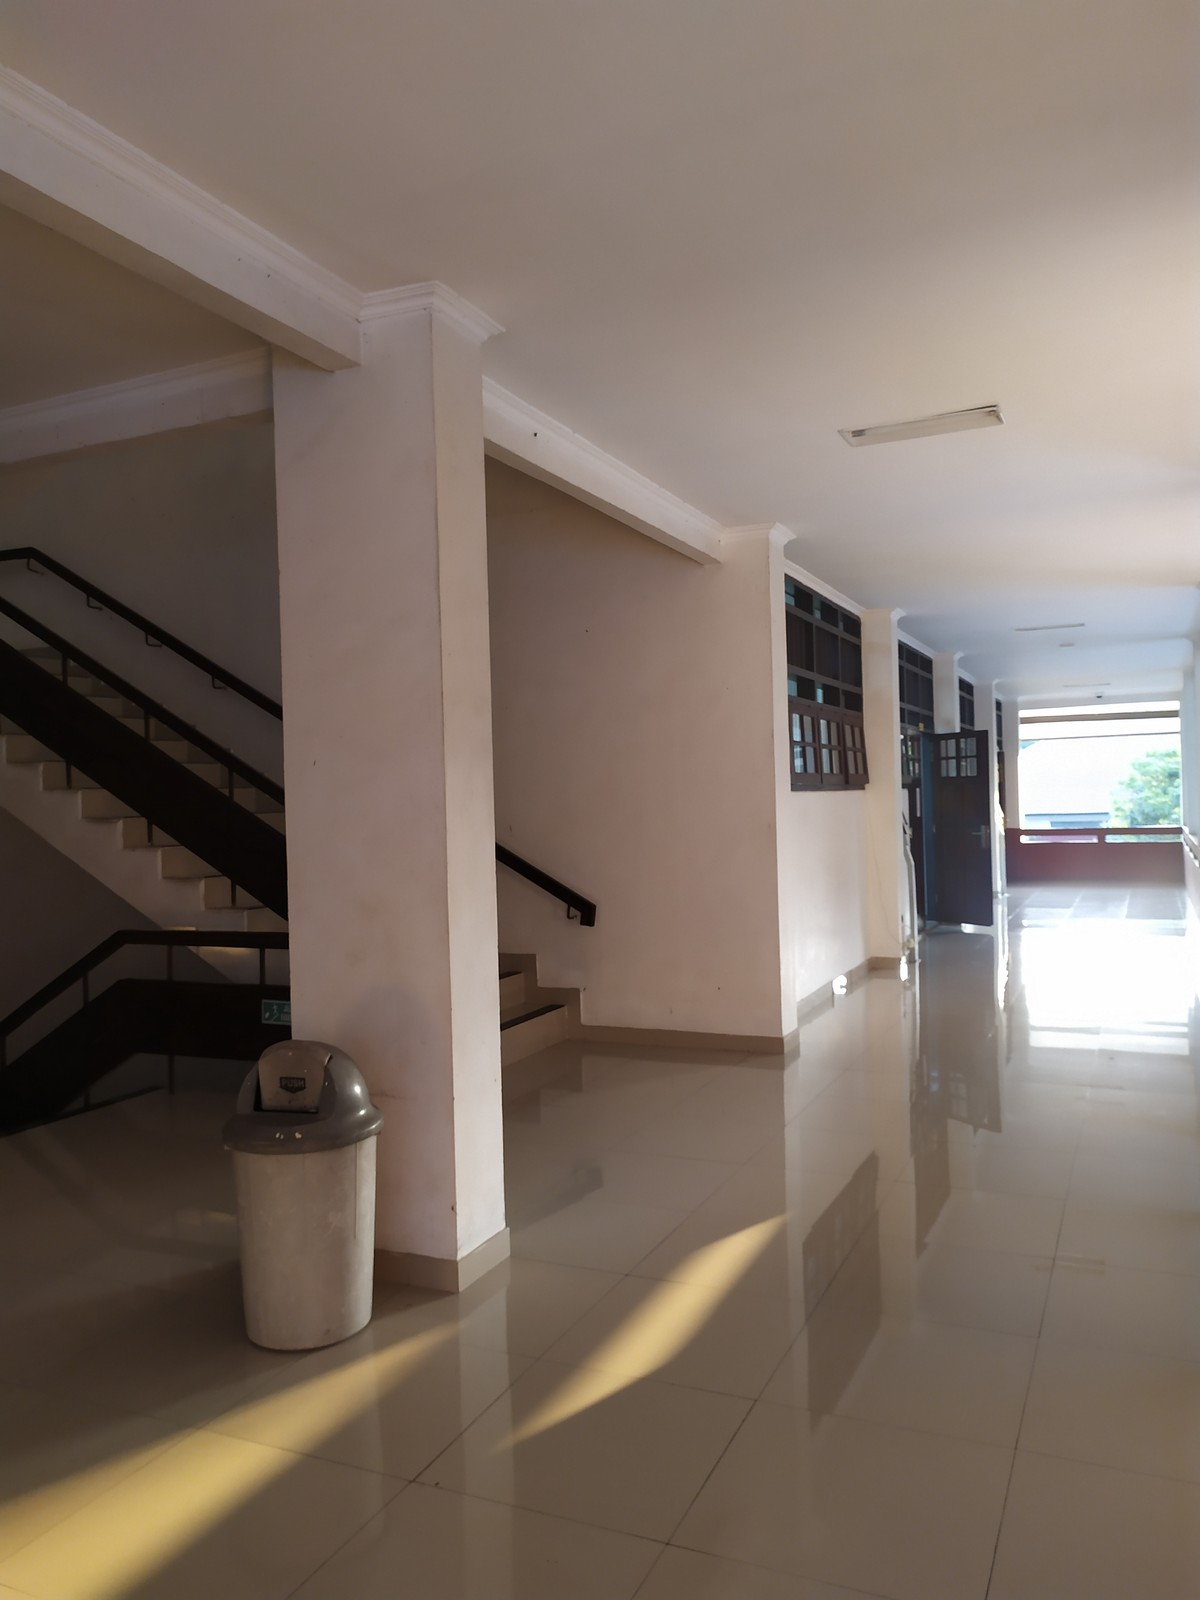concrete column: (267, 289, 527, 1294), (856, 598, 921, 975)
